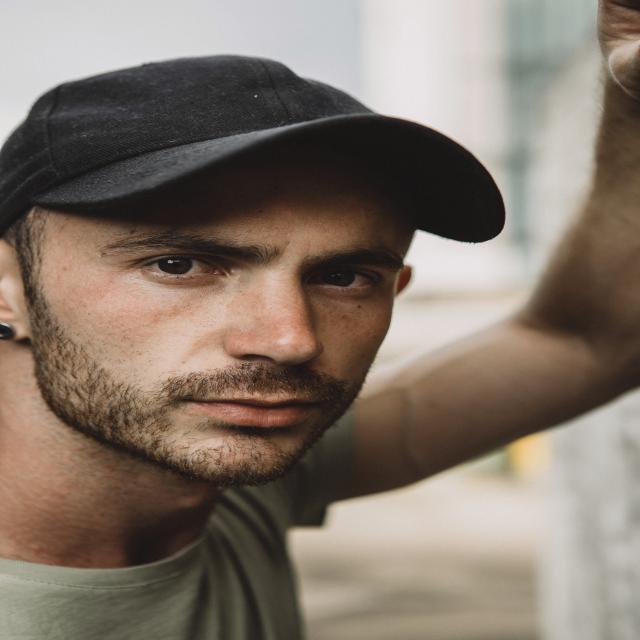adult: (0, 46, 467, 640)
